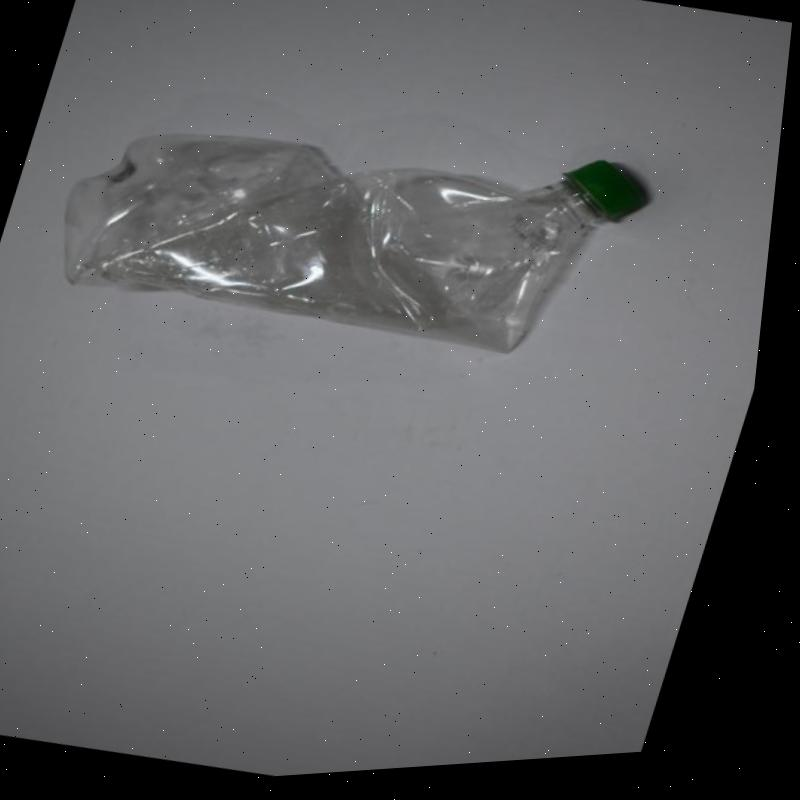botella: (36, 56, 675, 404)
